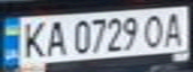0: (69, 16, 93, 54)
2: (106, 14, 127, 53)
7: (87, 15, 109, 54)
9: (121, 14, 145, 52)
A: (160, 9, 190, 47), (42, 17, 69, 57)
K: (15, 18, 48, 60)
O: (139, 11, 169, 48)
